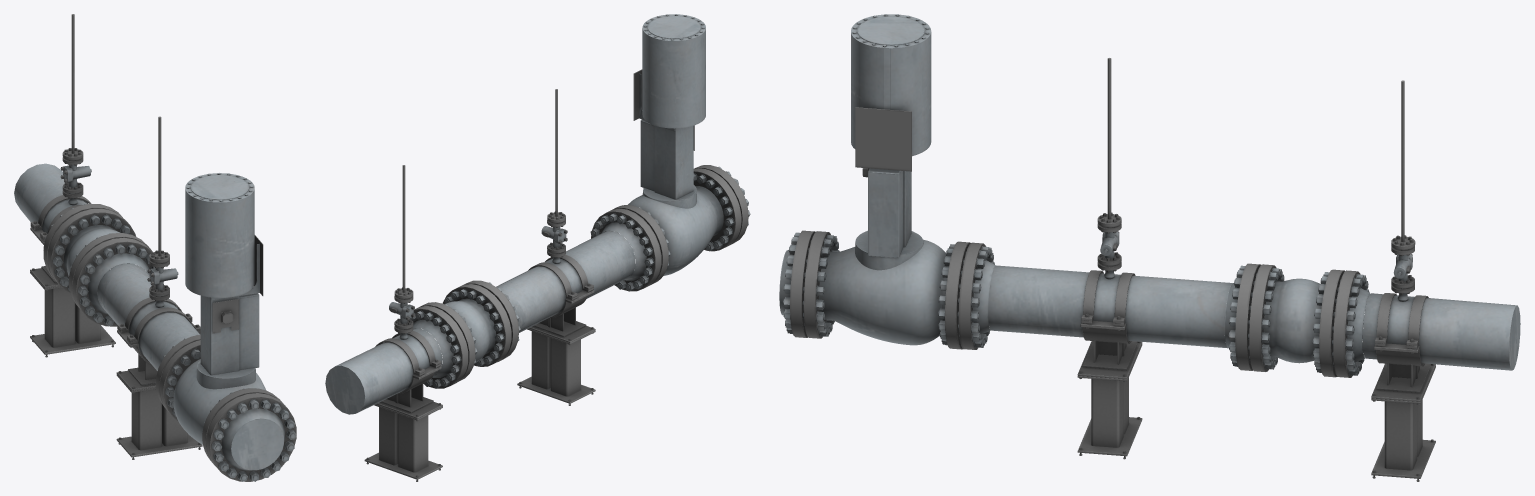
Rendered from EnronFCV-v1.glb.
3 views of the same model, side by side, from view 1: azimuth 30°, elevation 25°; view 2: azimuth 150°, elevation 25°; view 3: azimuth 270°, elevation 25° (orthographic). The views are drawn at different scales.
Parts seen in each view (by area): view 1: EnronFCV; view 2: EnronFCV; view 3: EnronFCV.
Part boxes in pixels (x1=…): EnronFCV: x1=14, y1=14, x2=296, y2=481; EnronFCV: x1=325, y1=14, x2=750, y2=481; EnronFCV: x1=779, y1=14, x2=1520, y2=481.
Bounding box in the file's own units: 0.3802 × 0.7654 × 1.32.
1 material, 1 textured.
